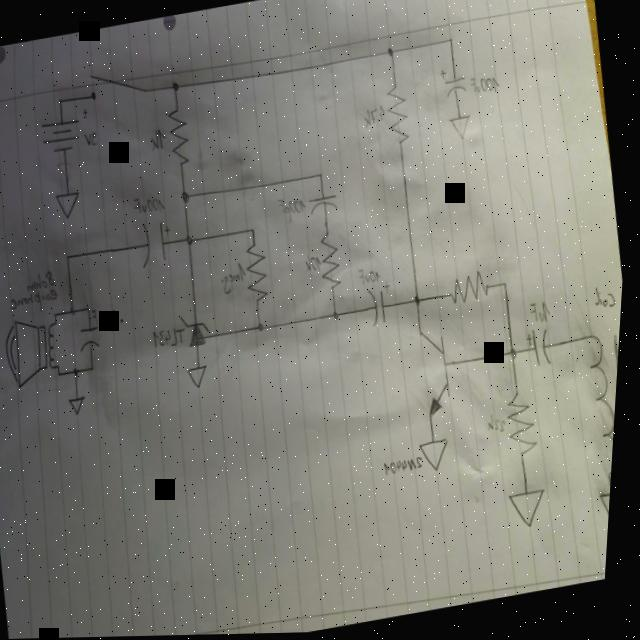capacitor: (140, 218, 181, 271), (368, 280, 401, 329), (528, 327, 559, 371), (438, 62, 471, 102), (81, 325, 108, 354), (310, 194, 343, 216)
ground: (513, 487, 558, 534), (421, 435, 460, 475), (57, 189, 87, 221), (448, 114, 478, 145), (191, 363, 216, 391), (603, 488, 617, 534), (72, 394, 94, 417)
inductor: (582, 329, 624, 488)
junction: (509, 344, 526, 368), (182, 189, 195, 206), (188, 232, 199, 249), (172, 80, 184, 95), (260, 319, 271, 335), (386, 45, 397, 60), (335, 309, 346, 324), (416, 294, 426, 309), (57, 94, 68, 107), (447, 35, 457, 49), (504, 279, 514, 292), (77, 365, 85, 377), (319, 171, 327, 182), (252, 225, 260, 235), (74, 306, 81, 317), (69, 251, 75, 262), (91, 305, 96, 314), (95, 364, 100, 372)
resistor: (505, 388, 547, 461), (319, 228, 352, 295), (245, 241, 277, 305), (384, 83, 416, 147), (166, 105, 197, 168), (450, 270, 497, 308)
source: (39, 106, 96, 156)
switch: (88, 64, 151, 104)
text: (12, 287, 65, 317), (154, 321, 193, 353), (277, 194, 313, 227), (221, 259, 253, 296), (388, 454, 433, 479), (94, 302, 131, 330), (134, 191, 171, 219), (468, 73, 504, 100), (594, 283, 624, 314), (28, 268, 61, 293), (532, 299, 559, 329), (364, 103, 391, 130), (359, 264, 387, 288), (305, 252, 330, 278), (490, 415, 516, 438), (150, 127, 171, 153), (85, 129, 102, 148)
thyristor: (183, 311, 218, 350)
transistor: (414, 322, 465, 425)
